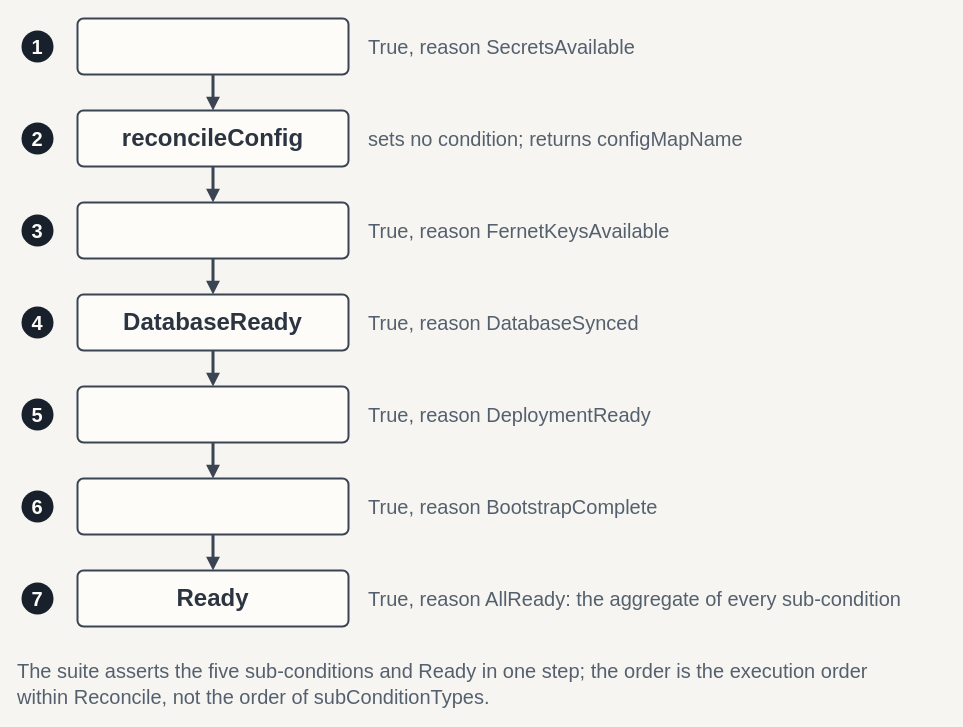
This 963x727 diagram has some shape labels left out. Here are the shapes that lost their labels. From the top down, the centre of each, then its label:
At (x=212, y=46): "SecretsReady".
At (x=212, y=230): "FernetKeysReady".
At (x=212, y=414): "DeploymentReady".
At (x=212, y=506): "BootstrapReady".
